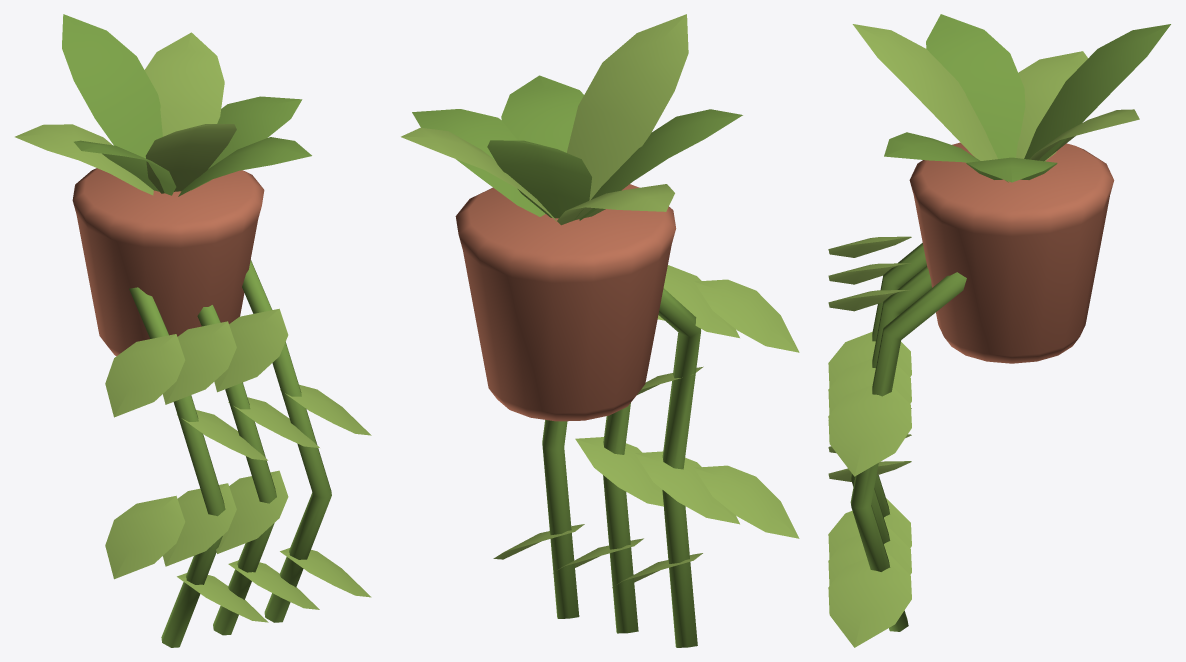
The model's file is hanging-plant.glb.
The picture shows the model from 3 angles, left to right: view 1: azimuth 30°, elevation 25°; view 2: azimuth 150°, elevation 25°; view 3: azimuth 270°, elevation 25°; orthographic projection. The views are drawn at different scales.
Visible parts, largest first — view 1: hanging_plant; view 2: hanging_plant; view 3: hanging_plant.
Boxes of the visible parts, bbox=[...] form: hanging_plant: bbox=[15, 14, 371, 647]; hanging_plant: bbox=[401, 14, 799, 647]; hanging_plant: bbox=[828, 14, 1170, 647].
Size of the model in its own units: 0.51 by 0.9859 by 0.5449.
